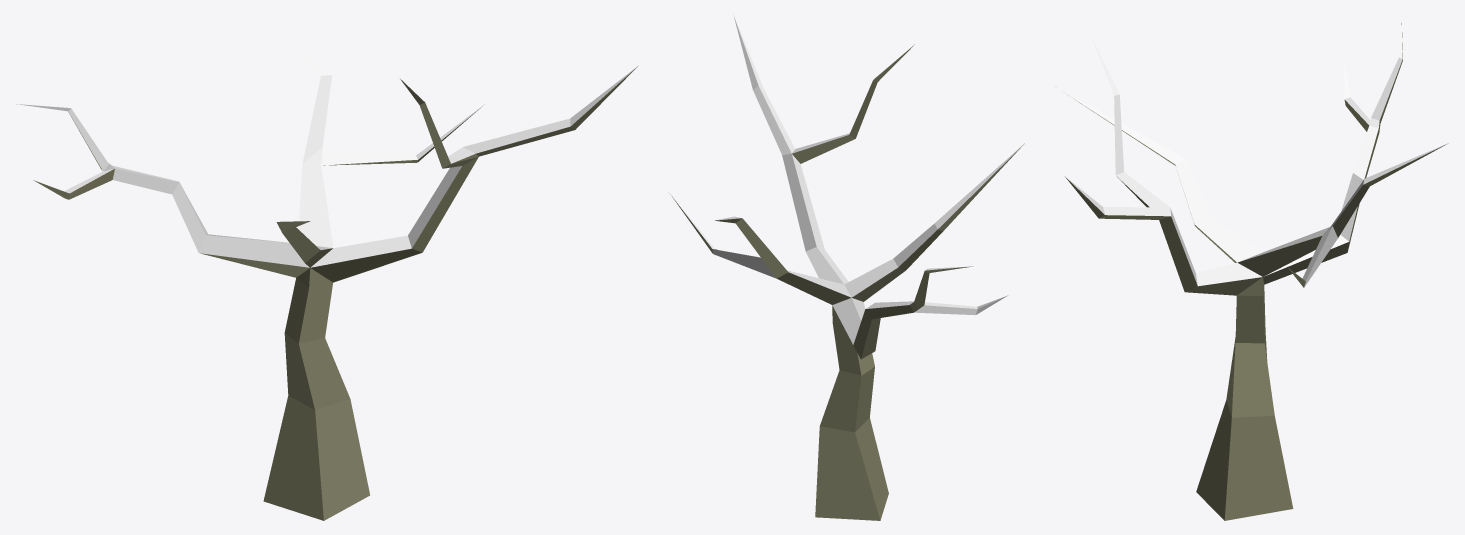
Rendered from Dead_Tree_m_Snow_01_LOD.fbx.
The picture shows the model from 3 angles, left to right: view 1: azimuth 30°, elevation 25°; view 2: azimuth 150°, elevation 25°; view 3: azimuth 270°, elevation 25°; orthographic projection. The views are drawn at different scales.
Visible parts, largest first — view 1: Dead_Tree_m_Snow_01_LOD0; view 2: Dead_Tree_m_Snow_01_LOD0; view 3: Dead_Tree_m_Snow_01_LOD0.
Boxes of the visible parts, box(x1,y1,x2,y2) form: Dead_Tree_m_Snow_01_LOD0: box(16, 14, 638, 520); Dead_Tree_m_Snow_01_LOD0: box(670, 15, 1024, 520); Dead_Tree_m_Snow_01_LOD0: box(1056, 15, 1448, 520).
Size of what is drawn, in the model's own units: 784 by 772 by 595.
